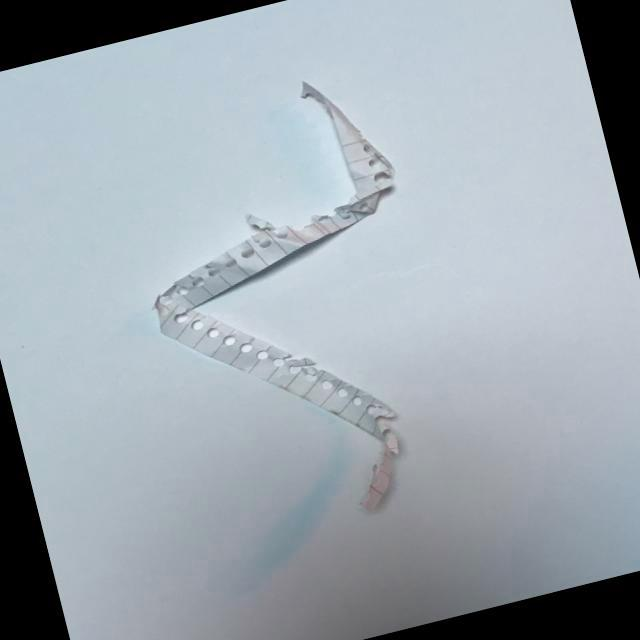paper: (91, 52, 506, 570)
